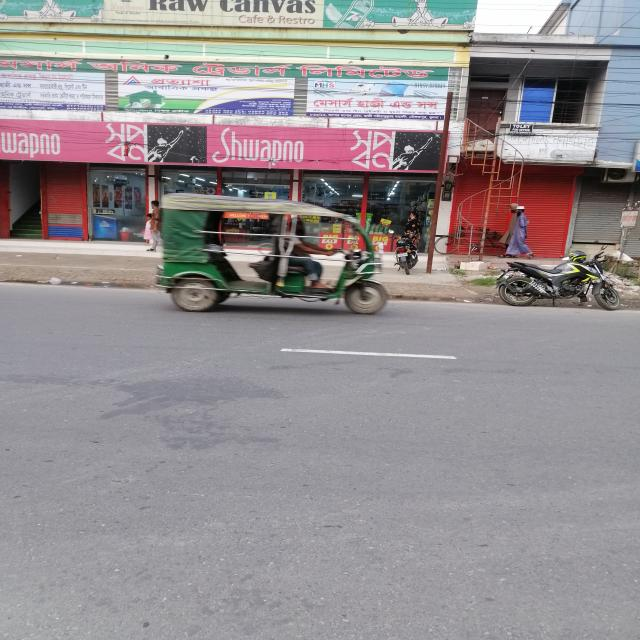Easybike: (154, 194, 389, 318)
Motorbike: (495, 244, 624, 311)
